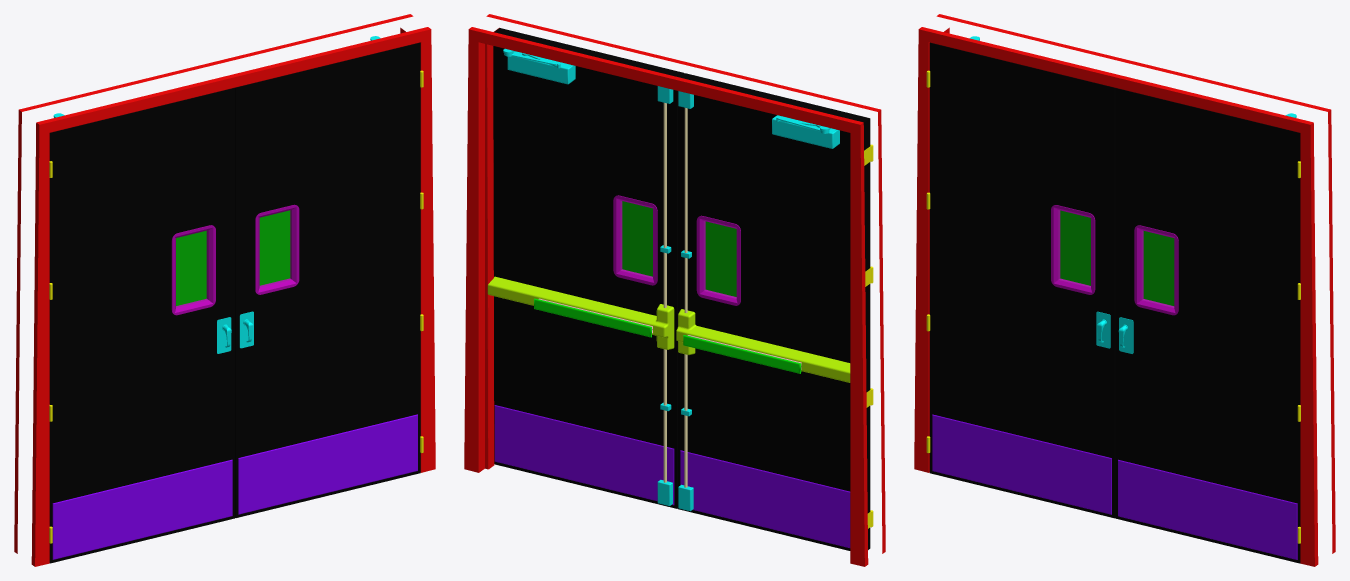
Rendered from WallObserveDoor.glb.
The picture shows the model from 3 angles, left to right: view 1: azimuth 30°, elevation 25°; view 2: azimuth 150°, elevation 25°; view 3: azimuth 330°, elevation 25°; orthographic projection.
Parts seen in each view (by area): view 1: WallObserveDoor; view 2: WallObserveDoor; view 3: WallObserveDoor.
Part boxes in pixels (left/top/right/bottom): WallObserveDoor: left=14, top=14, right=435, bottom=566; WallObserveDoor: left=464, top=14, right=885, bottom=566; WallObserveDoor: left=914, top=14, right=1335, bottom=566.
Bounding box in the file's own units: 2.84 × 3 × 0.3137.
